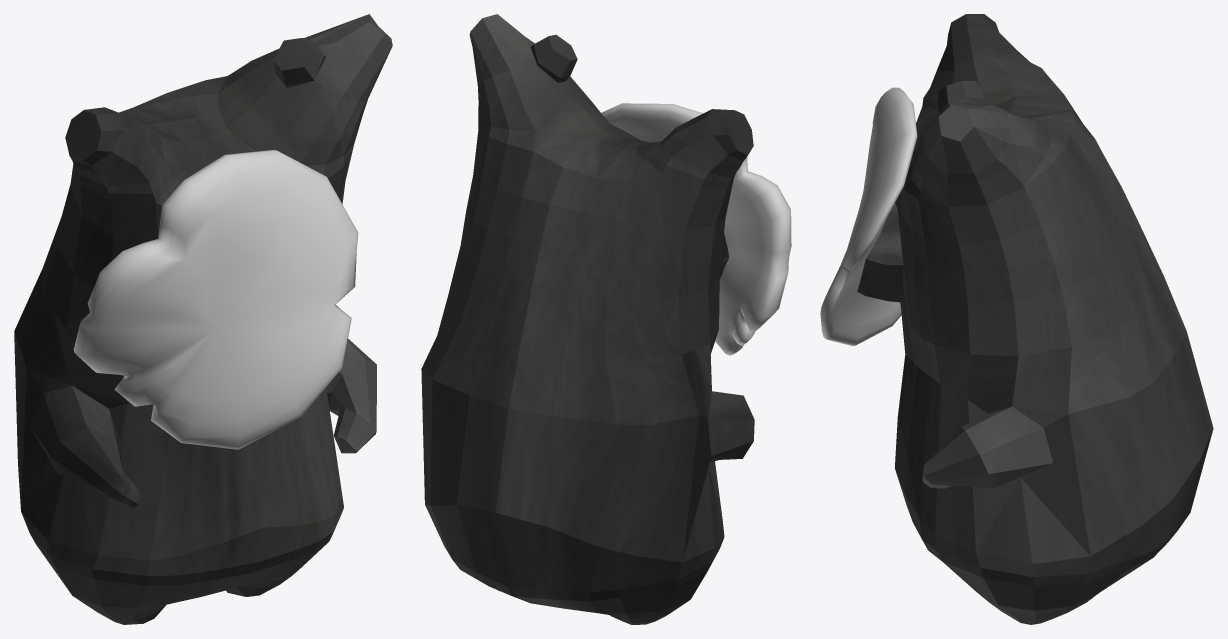
Rendered from frame_0004.obj.
The picture shows the model from 3 angles, left to right: view 1: azimuth 30°, elevation 25°; view 2: azimuth 150°, elevation 25°; view 3: azimuth 270°, elevation 25°; orthographic projection. The views are drawn at different scales.
Visible parts, largest first — view 1: korok, leaf; view 2: korok, leaf; view 3: korok, leaf, nose.
Boxes of the visible parts, bbox=[...] form: korok: bbox=[14, 14, 392, 624]; leaf: bbox=[73, 149, 358, 449]; korok: bbox=[421, 14, 754, 624]; leaf: bbox=[601, 103, 791, 355]; korok: bbox=[895, 14, 1213, 624]; leaf: bbox=[820, 87, 917, 346]; nose: bbox=[857, 202, 903, 302].
Size of the model in its own units: 1.29 by 2.22 by 1.43.
